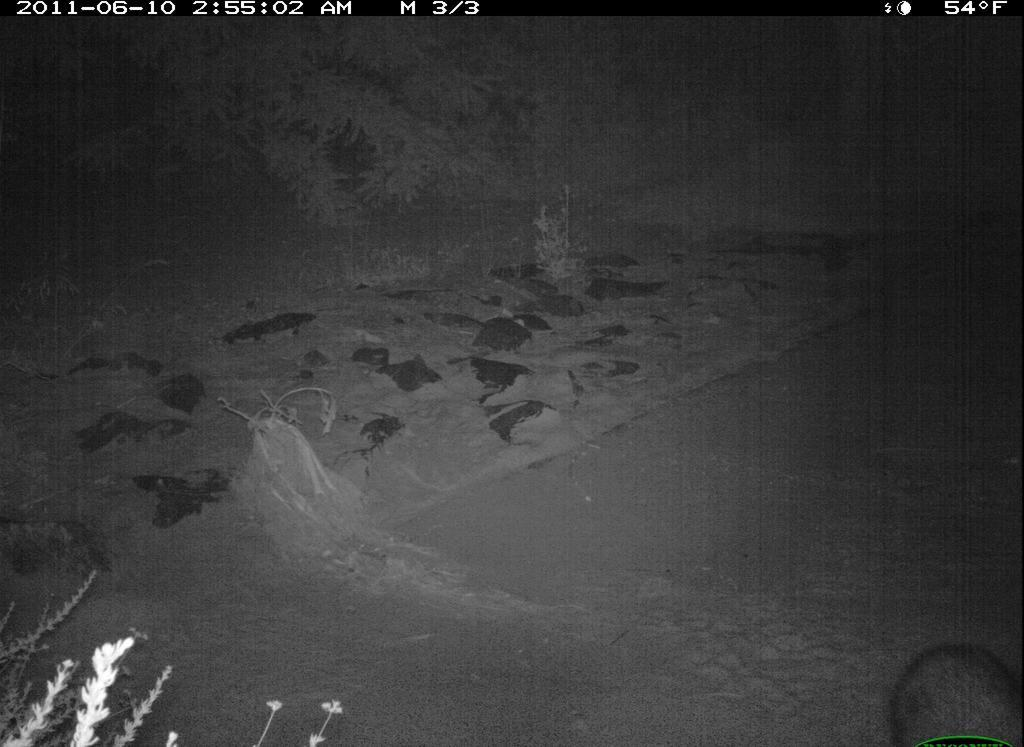raccoon: (862, 621, 1021, 747)
